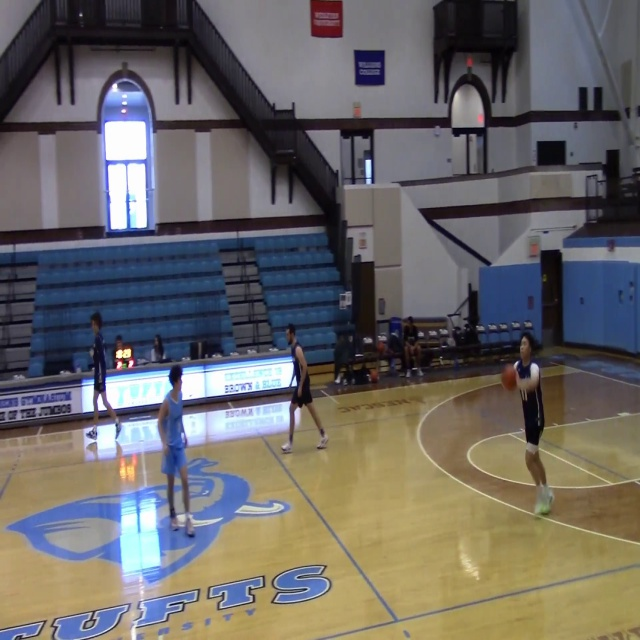Basketball: (501, 364, 517, 391)
